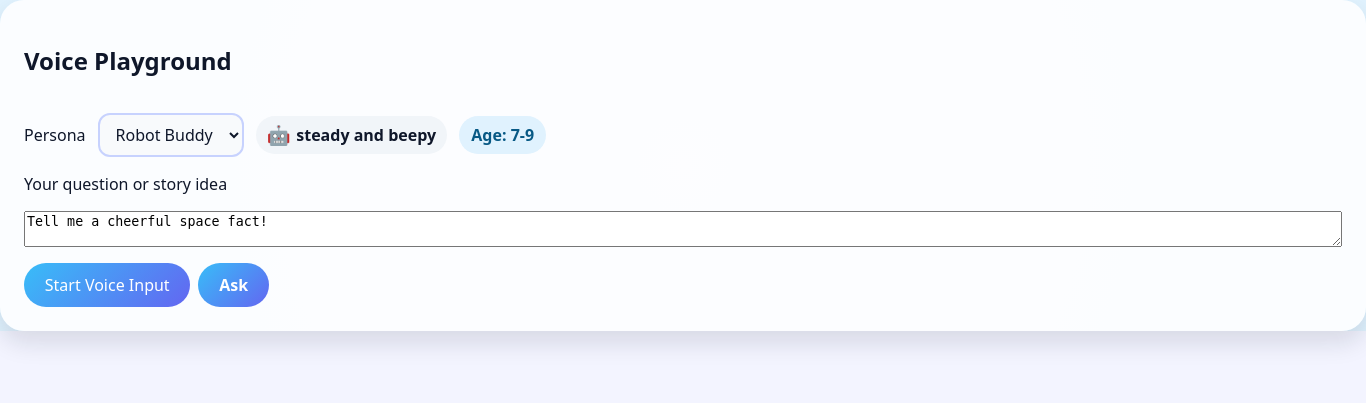
VoiceBar voice capture › stops supported voice capture and returns to idle
The width and height of the screenshot is (1366, 403).
Click the button "Start Voice Input" at (107, 285), box [24,263,190,307]
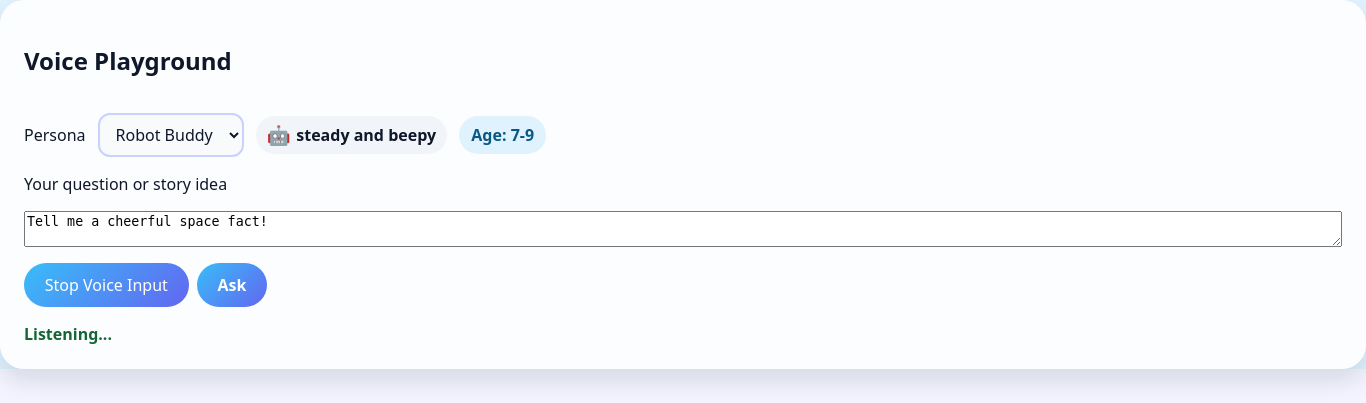
Click the button "Stop Voice Input" at (106, 285), box [24,263,189,307]
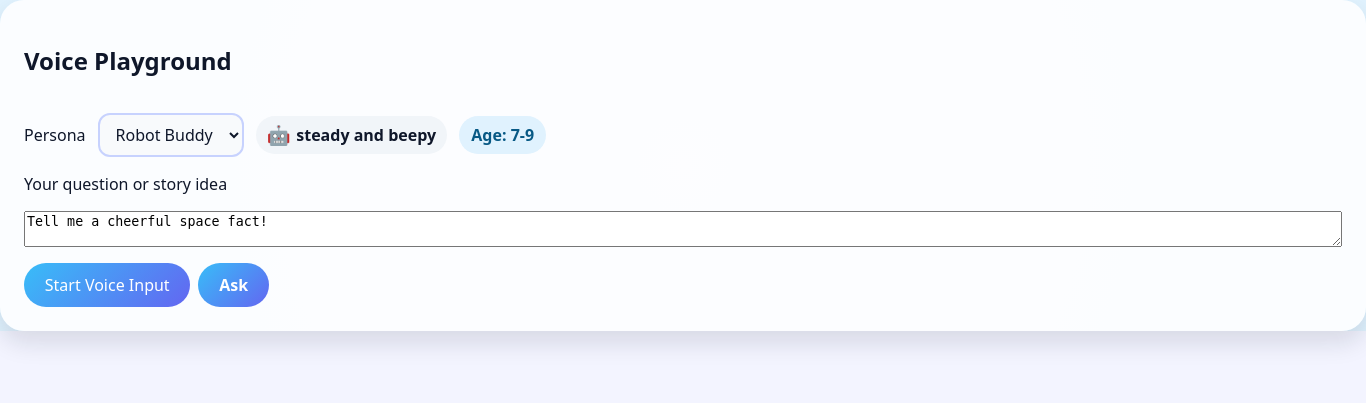
Expected: the button "Start Voice Input" is shown, [24,263,190,307]
